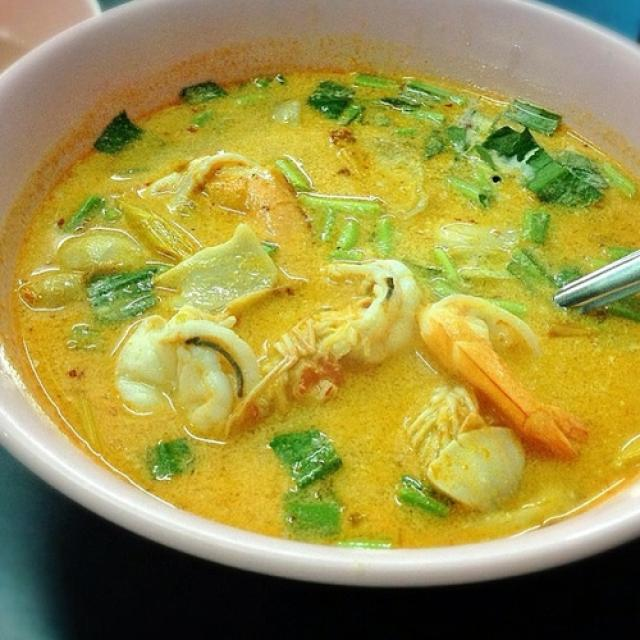汤锅炖物: (29, 32, 608, 559)
